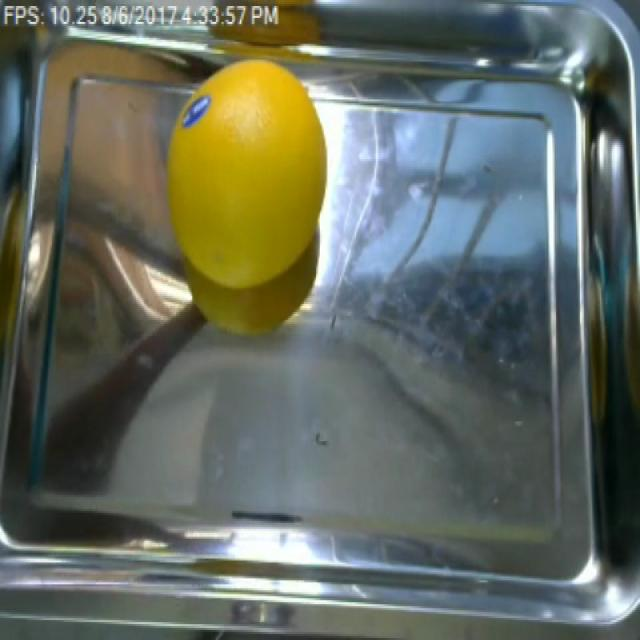Fruit: (153, 50, 335, 348)
